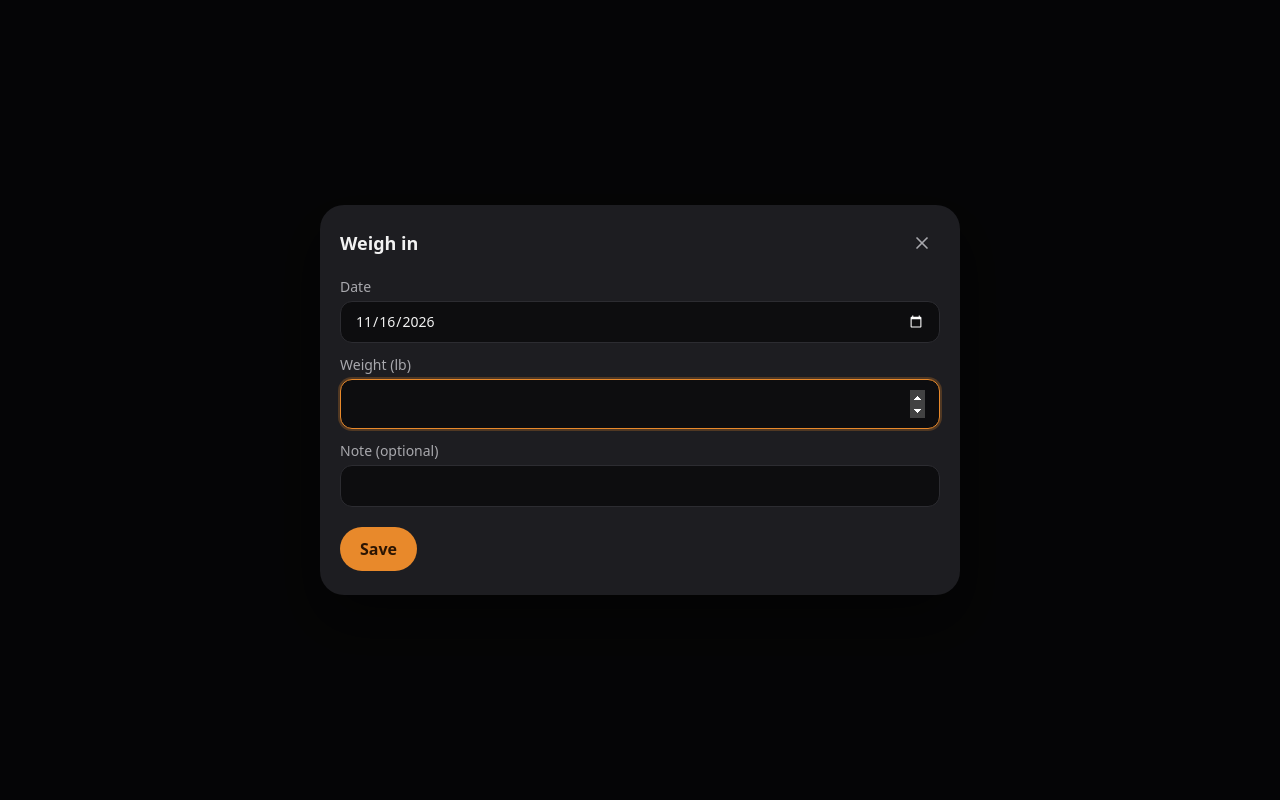
Test: WeighInSheet › a weight already typed is not overwritten by a prefill
The image size is (1280, 800).
Type "219" into the number field labelled "Weight (lb)" at (640, 404), box [340,379,940,429]
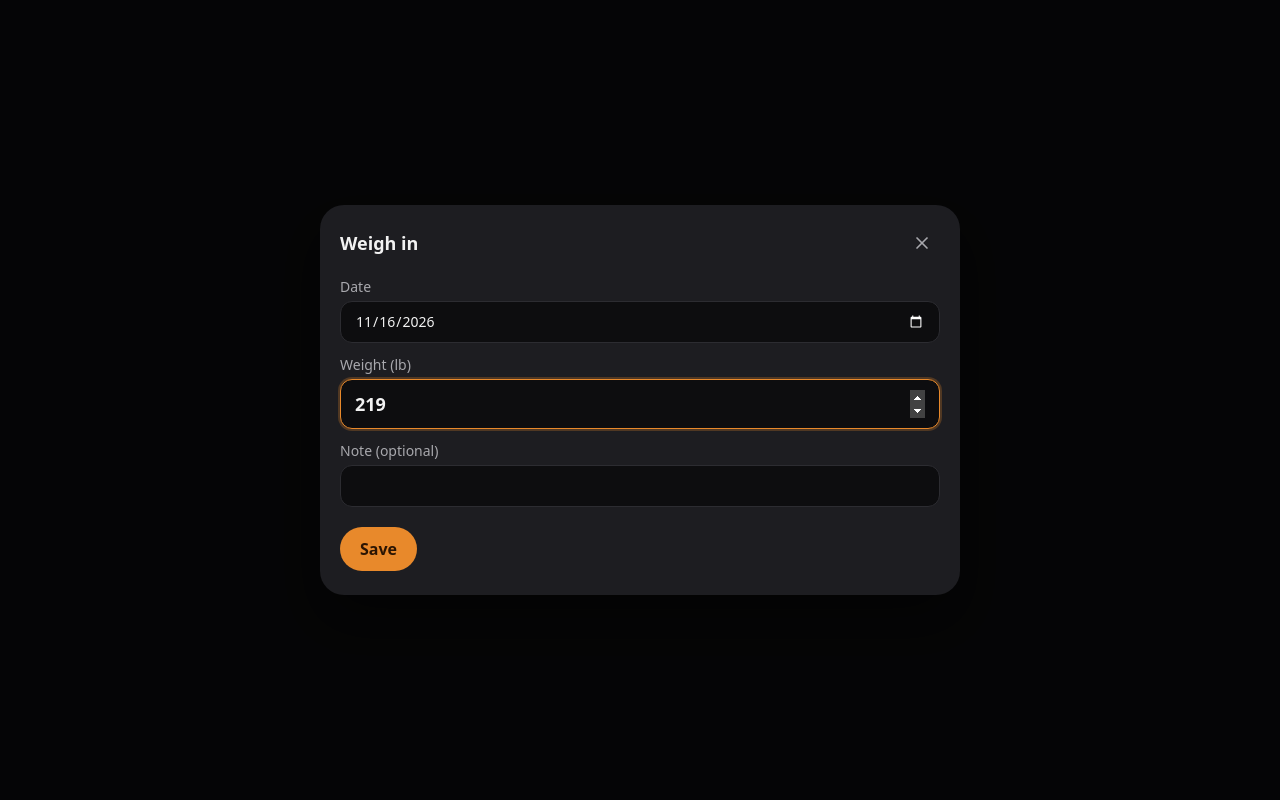
Type "2026-11-13" into the date field labelled "Date" at (640, 322), box [340,301,940,343]
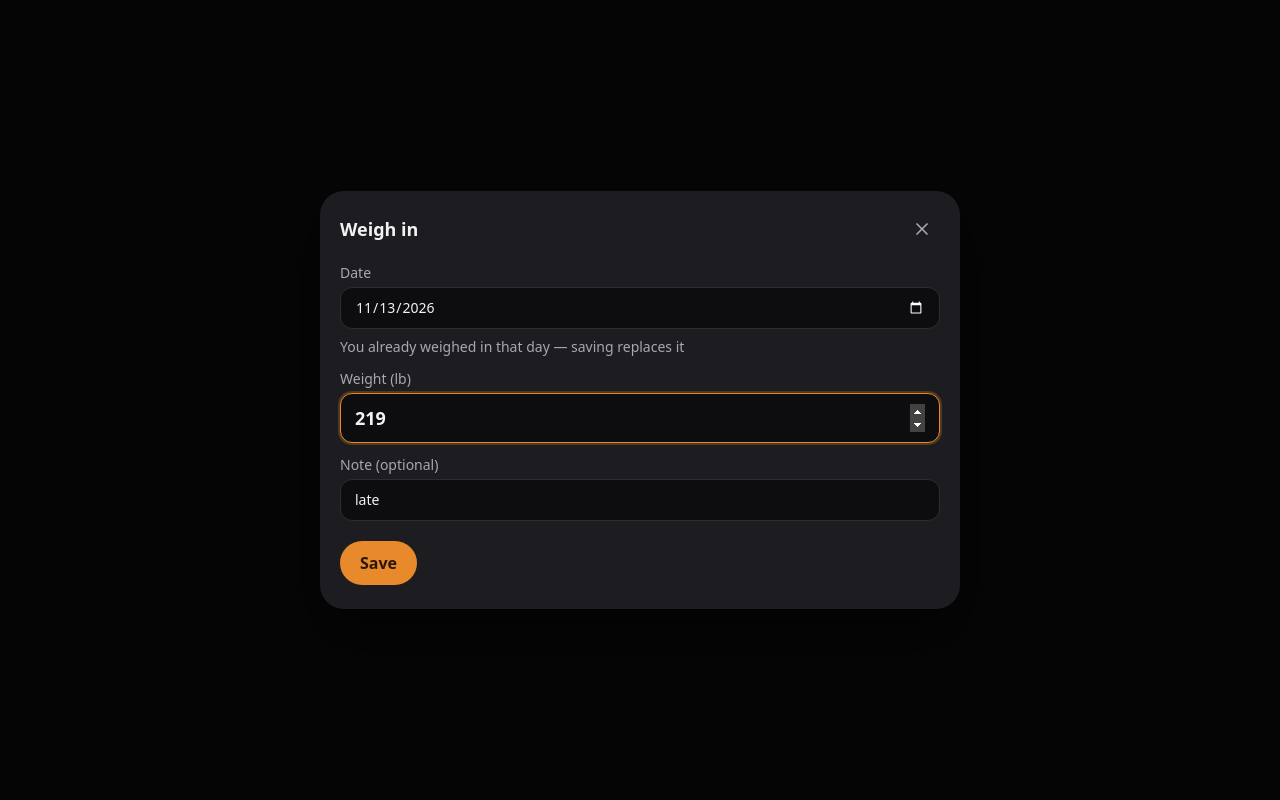
Expected: the text "You already weighed in that day — saving replaces it" is shown, [340,337,684,356]
